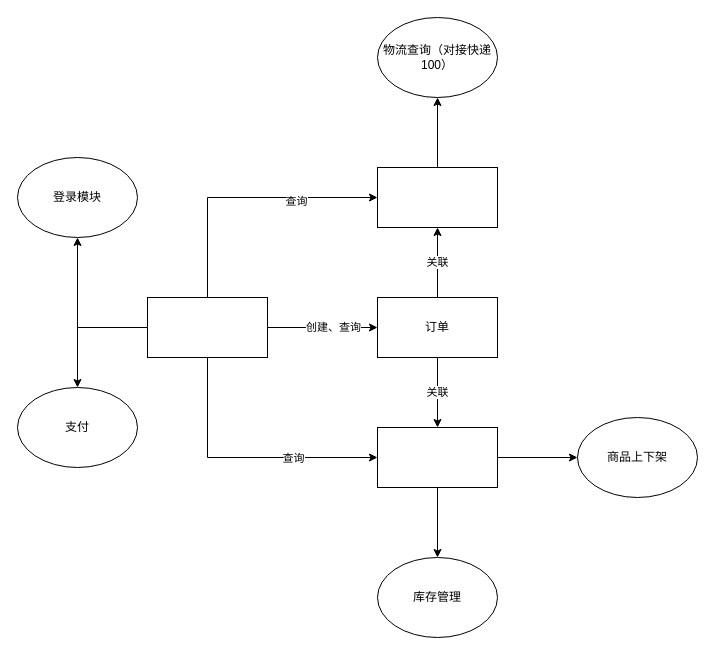
Image size: 715x655. Some labels were removed from this diagram. The centre of each missing label's shape, as x and y in pixels:
"商品" belongs at point (437, 457).
"物流" belongs at point (437, 197).
"用户" belongs at point (207, 327).
